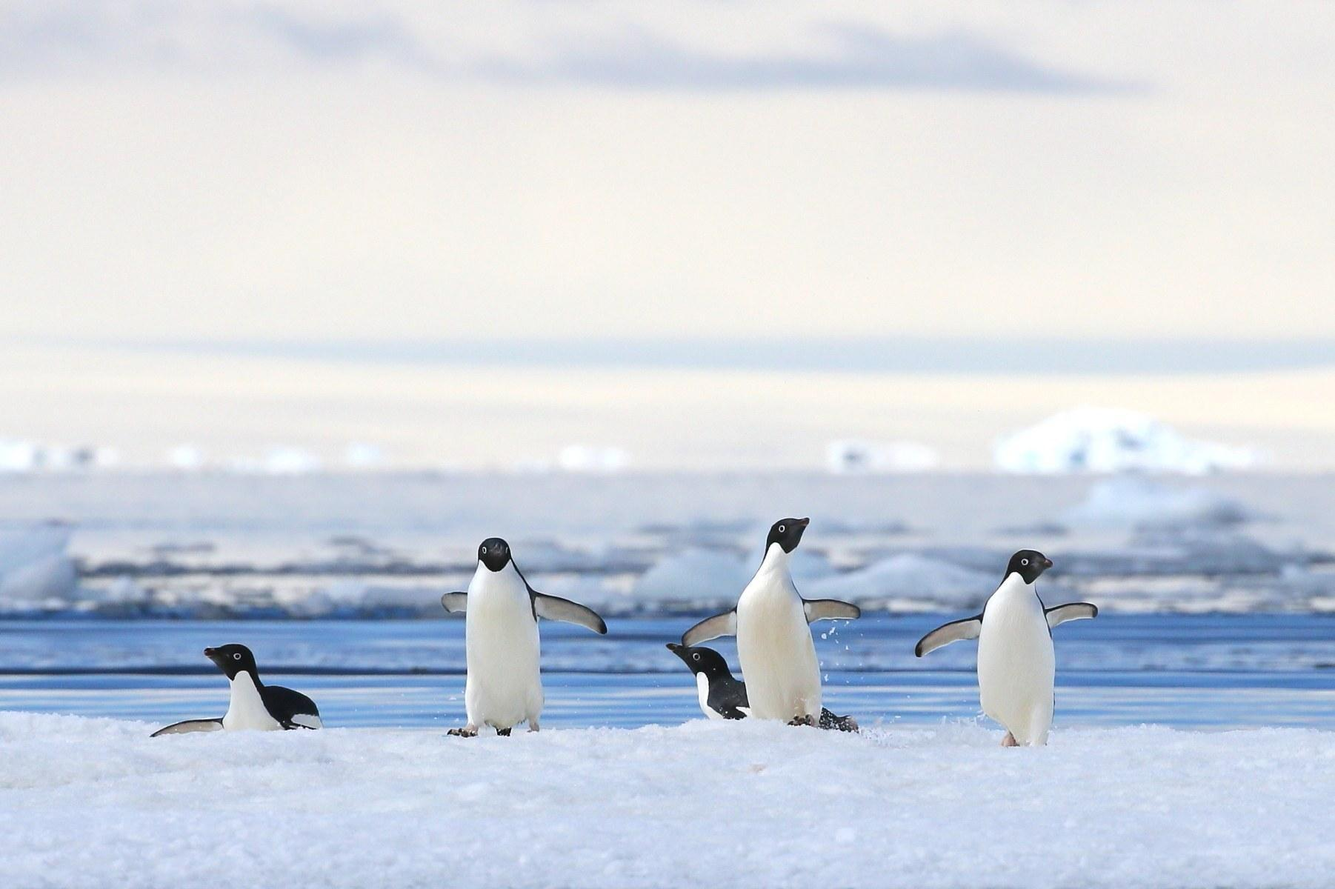Penguin: (681, 517, 860, 727), (915, 548, 1097, 746), (440, 537, 607, 738), (149, 643, 323, 737), (665, 642, 750, 720), (819, 707, 860, 734)
